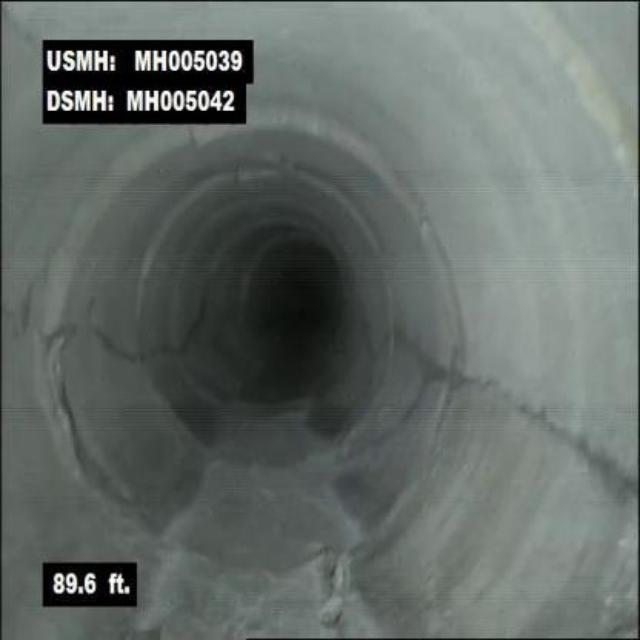Crack: (472, 374, 635, 500), (182, 128, 205, 149)
Joint offset: (29, 157, 129, 317), (251, 97, 389, 152), (431, 212, 474, 338)
